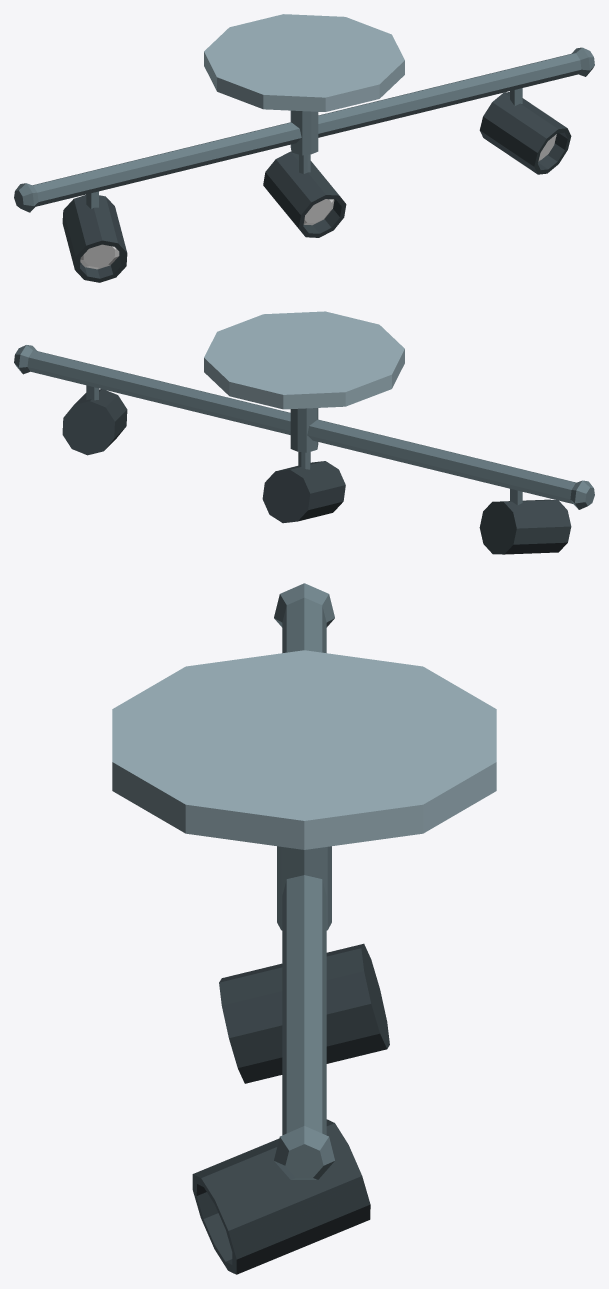
The model's file is CeilingLampV2.fbx.
3 renders of one model, top to bottom at view 1: azimuth 30°, elevation 25°; view 2: azimuth 150°, elevation 25°; view 3: azimuth 270°, elevation 25°, orthographic. The views are drawn at different scales.
Visible parts, largest first — view 1: CeilingLampV2; view 2: CeilingLampV2; view 3: CeilingLampV2.
Part boxes in pixels (bbox=[...]): CeilingLampV2: bbox=[14, 14, 594, 282]; CeilingLampV2: bbox=[14, 311, 594, 554]; CeilingLampV2: bbox=[112, 583, 496, 1274].
Bounding box in the file's own units: 127 × 36.54 × 37.04.
